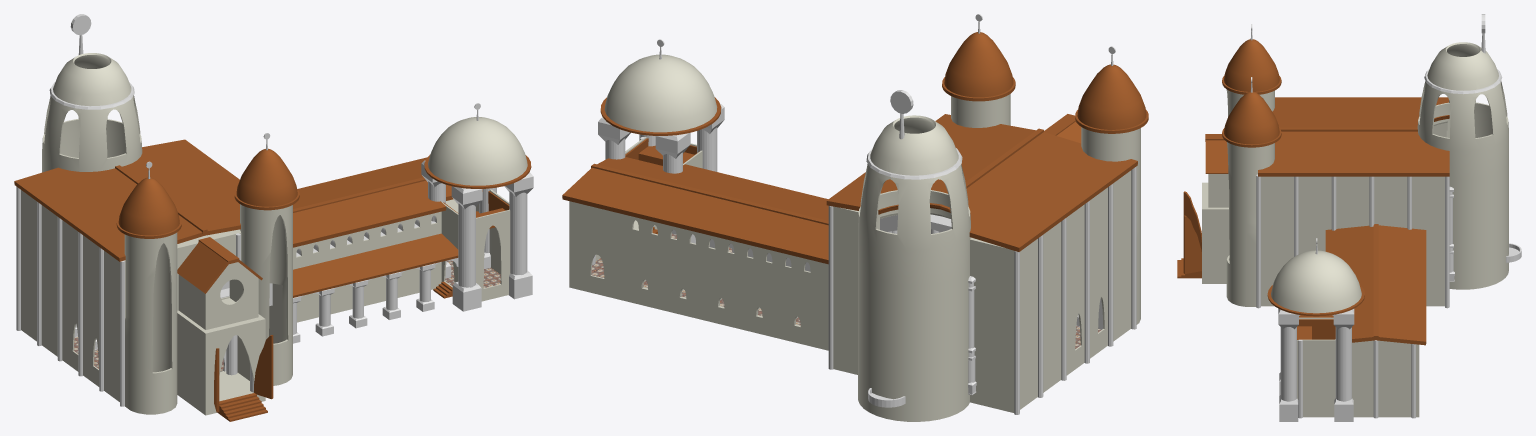
Rendered from church.glb.
The picture shows the model from 3 angles, left to right: view 1: azimuth 30°, elevation 25°; view 2: azimuth 150°, elevation 25°; view 3: azimuth 270°, elevation 25°; orthographic projection. The views are drawn at different scales.
Parts seen in each view (by area): view 1: WallCandlePlace-col, Walls-col, RoofMain, WallSunAltar-col, WallMain-col, Roof, DormitoryPillar-col, BellRoof, RoofCandlePlace, WallFrontRoom-col, SubRof, MainOutsidePillar.001 (+10 smaller); view 2: WallSunAltar-col, Walls-col, WallMain-col, RoofMain, Roof, MainOutsidePillar.001, BellRoof, RoofCandlePlace, WallCandlePlace-col, DormitoryPillar-col, RoofDetail, PillarFullAltar-col (+6 smaller); view 3: WallSunAltar-col, Walls-col, RoofMain, Roof, WallMain-col, WallCandlePlace-col, BellRoof, RoofCandlePlace, DormitoryPillar-col, MainOutsidePillar.001, WallFrontRoom-col, OpenDoor-col (+10 smaller).
Part boxes in pixels (x1,y1,x2,y2): WallCandlePlace-col: [124, 204, 292, 414]; Walls-col: [21, 190, 282, 401]; RoofMain: [14, 139, 240, 261]; WallSunAltar-col: [42, 53, 142, 172]; WallMain-col: [293, 189, 510, 322]; Roof: [293, 157, 482, 247]; DormitoryPillar-col: [421, 160, 533, 311]; BellRoof: [428, 117, 527, 185]; RoofCandlePlace: [118, 148, 297, 235]; WallFrontRoom-col: [177, 298, 265, 405]; SubRof: [293, 233, 458, 297]; MainOutsidePillar.001: [16, 186, 124, 406]; WallSunAltar-col: [858, 115, 970, 421]; Walls-col: [833, 170, 1131, 412]; WallMain-col: [569, 137, 828, 350]; RoofMain: [826, 114, 1137, 251]; Roof: [562, 157, 828, 264]; MainOutsidePillar.001: [828, 166, 1136, 414]; BellRoof: [604, 54, 717, 132]; RoofCandlePlace: [944, 32, 1146, 129]; WallCandlePlace-col: [951, 94, 1140, 324]; DormitoryPillar-col: [598, 103, 724, 173]; RoofDetail: [591, 163, 828, 225]; PillarFullAltar-col: [968, 276, 976, 395]; WallSunAltar-col: [1417, 42, 1508, 289]; Walls-col: [1257, 121, 1447, 306]; RoofMain: [1258, 97, 1449, 176]; Roof: [1325, 225, 1426, 345]; WallMain-col: [1297, 317, 1419, 417]; WallCandlePlace-col: [1226, 89, 1274, 306]; BellRoof: [1271, 250, 1361, 313]; RoofCandlePlace: [1224, 39, 1279, 144]; DormitoryPillar-col: [1278, 308, 1354, 421]; MainOutsidePillar.001: [1256, 174, 1449, 308]; WallFrontRoom-col: [1202, 182, 1229, 274]; OpenDoor-col: [1183, 191, 1201, 273].
Bounding box in the file's own units: 69.36 × 42.51 × 51.76.
3 materials, 1 textured.
